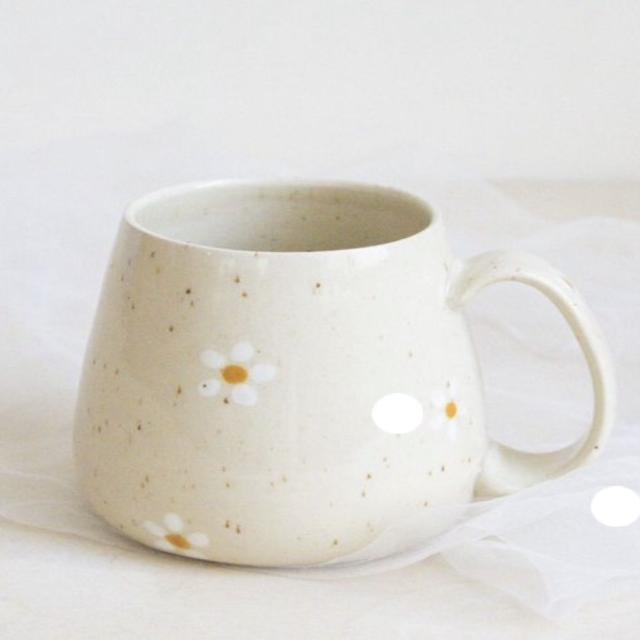glass cup: (74, 175, 617, 569)
